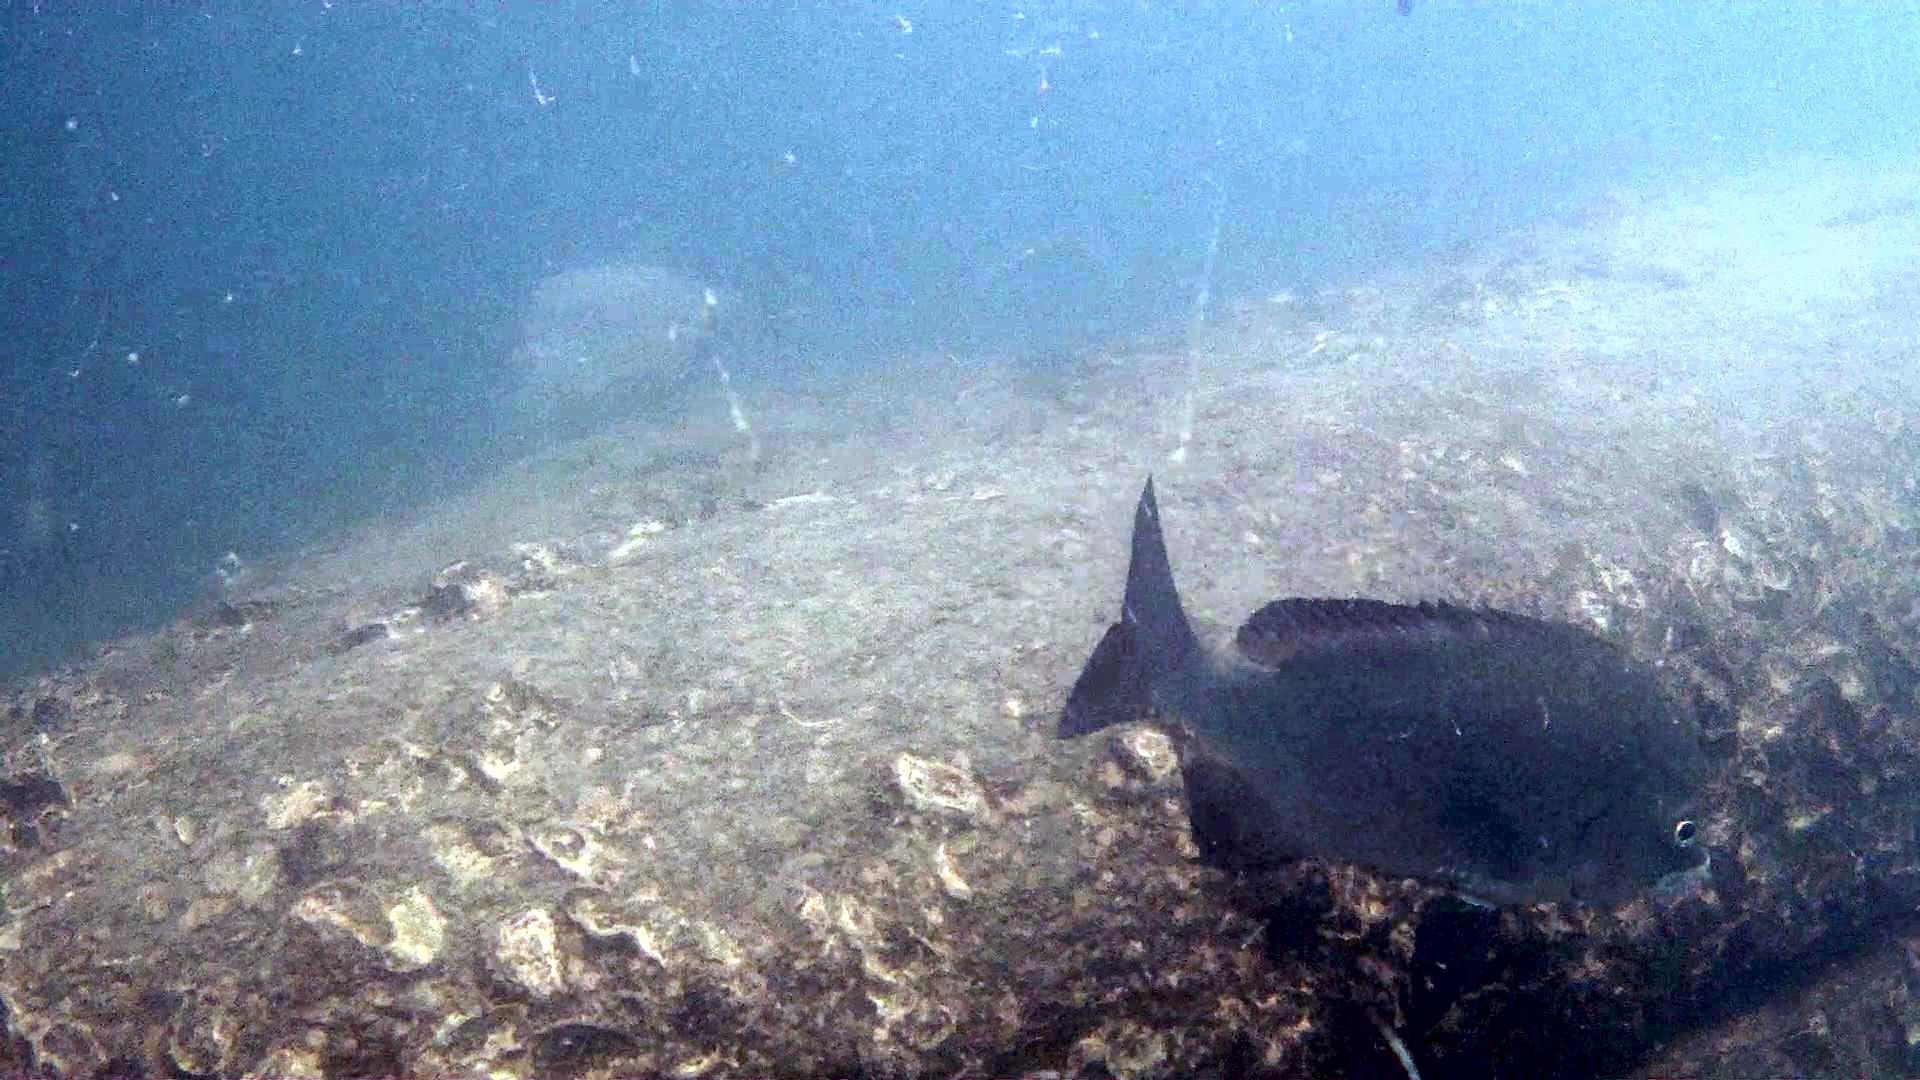acanthopagrus palmaris: (1040, 463, 1720, 973)
